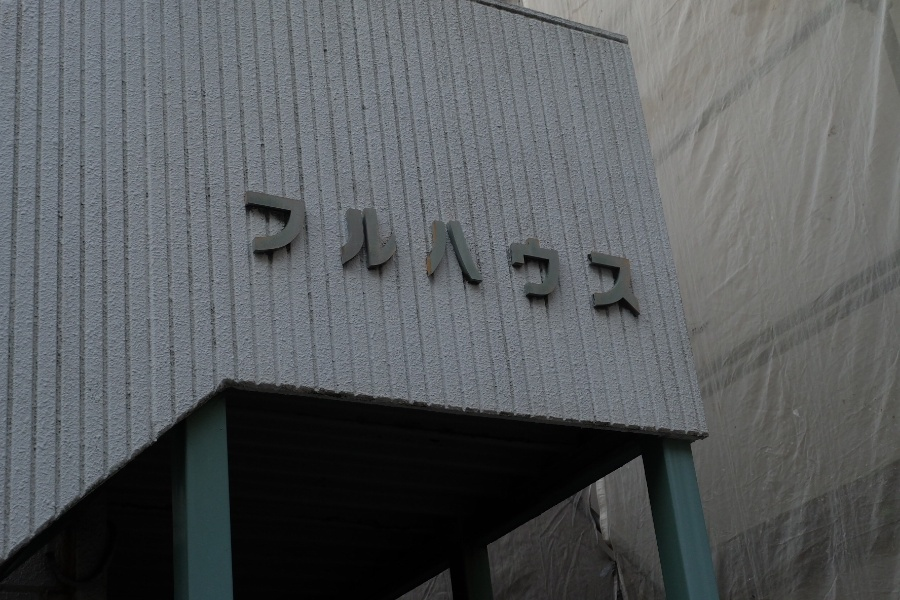text: (625, 182, 641, 316), (257, 182, 272, 316), (273, 182, 288, 316), (289, 182, 304, 316), (305, 182, 320, 316), (321, 182, 336, 316), (337, 182, 352, 316), (353, 182, 368, 316), (369, 182, 384, 316), (385, 182, 400, 316), (401, 182, 416, 316), (417, 182, 432, 316), (433, 182, 448, 316), (449, 182, 464, 316), (465, 182, 480, 316), (481, 182, 496, 316), (497, 182, 512, 316), (513, 182, 528, 316), (529, 182, 544, 316), (545, 182, 560, 316), (561, 182, 576, 316), (577, 182, 592, 316), (593, 182, 608, 316), (609, 182, 624, 316), (244, 182, 256, 316)
